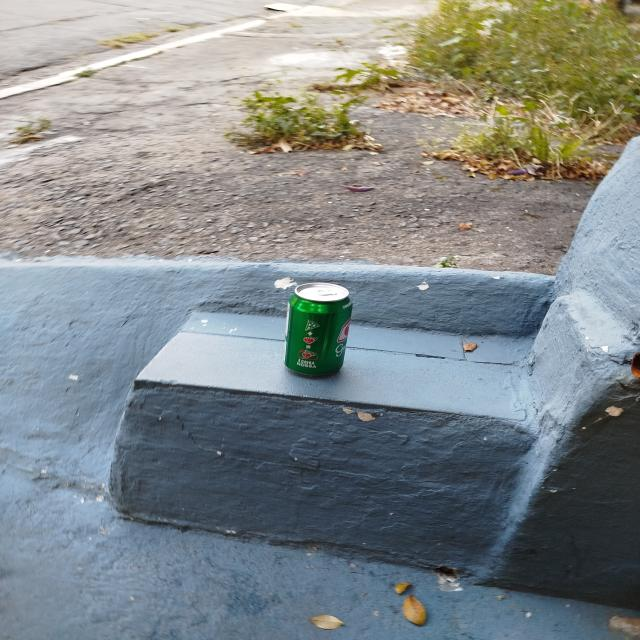Guarana: (292, 280, 352, 381)
